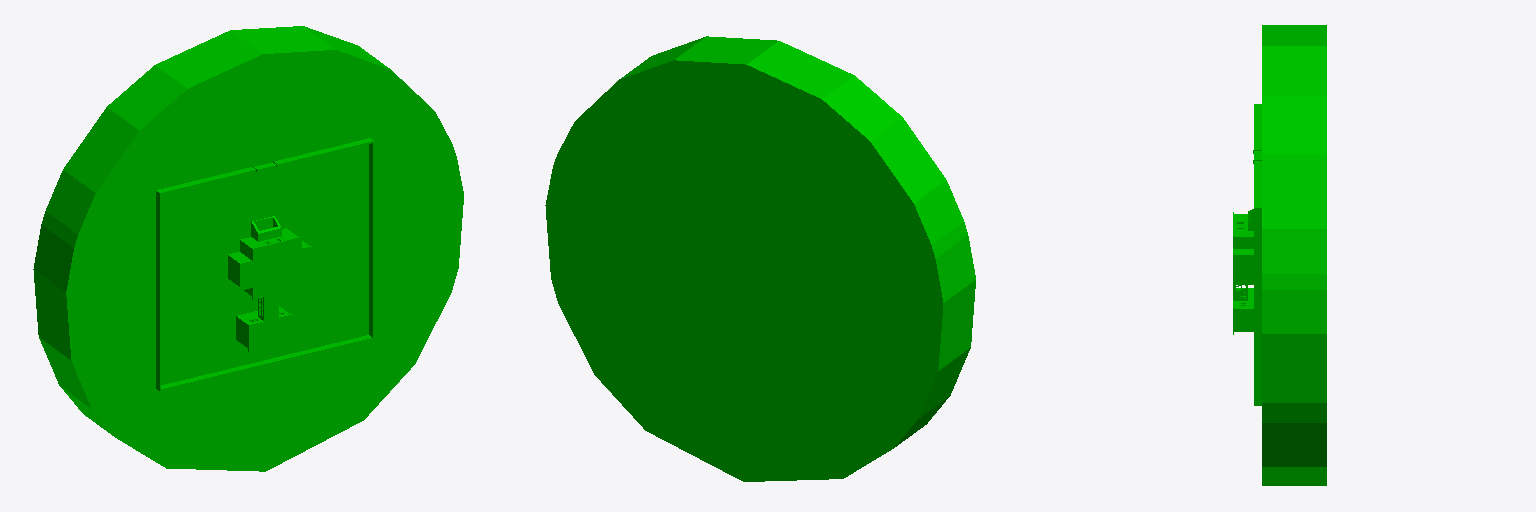
Rendered from lab_0001_col.obj.
3 renders of one model, left to right at view 1: azimuth 30°, elevation 25°; view 2: azimuth 150°, elevation 25°; view 3: azimuth 270°, elevation 25°, orthographic.
Parts seen in each view (by area): view 1: COLLISION.014_Cube.081; view 2: COLLISION.014_Cube.081; view 3: COLLISION.014_Cube.081.
Part boxes in pixels (x1,y1,x2,y2): COLLISION.014_Cube.081: (33,26,463,471); COLLISION.014_Cube.081: (545,36,975,481); COLLISION.014_Cube.081: (1233,25,1326,485).
Bounding box in the file's own units: 2893 × 2905 × 592.